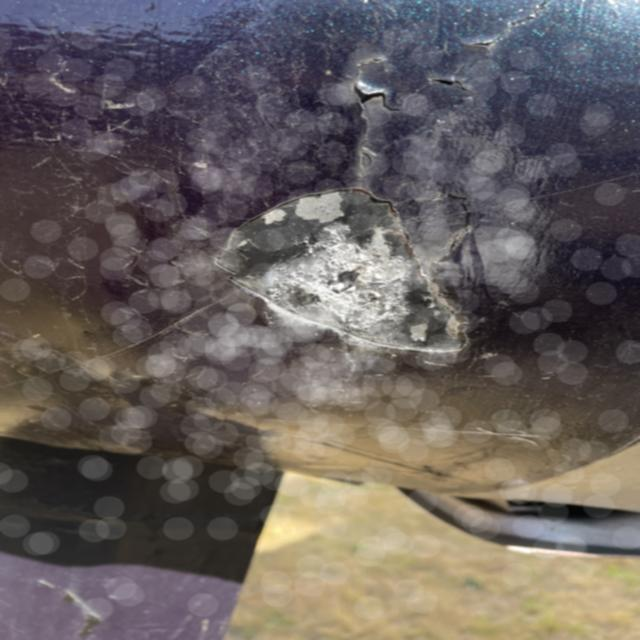crack: (339, 67, 472, 114), (440, 22, 532, 51)
dent: (206, 176, 477, 365)
